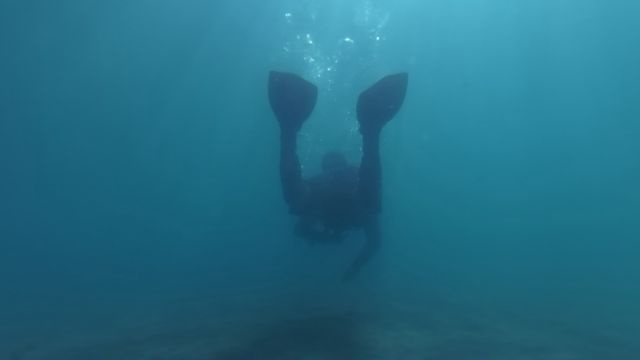Diver: (258, 59, 418, 298)
Hand: (334, 264, 372, 291)
